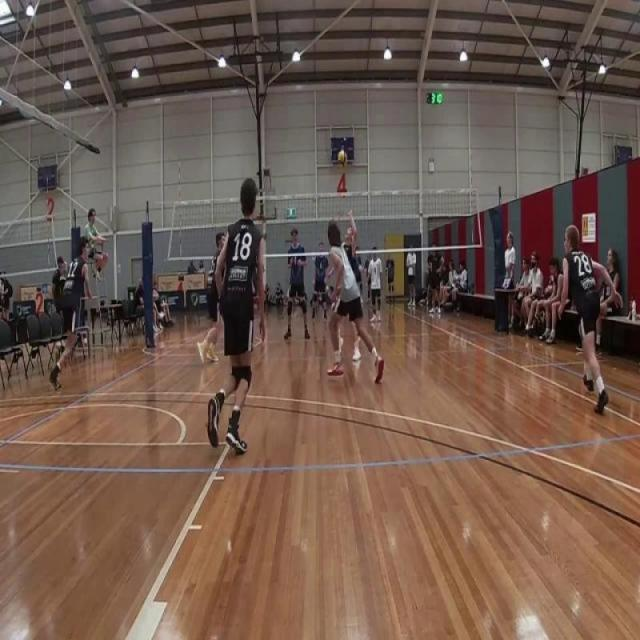volleyball: (337, 148, 347, 168)
